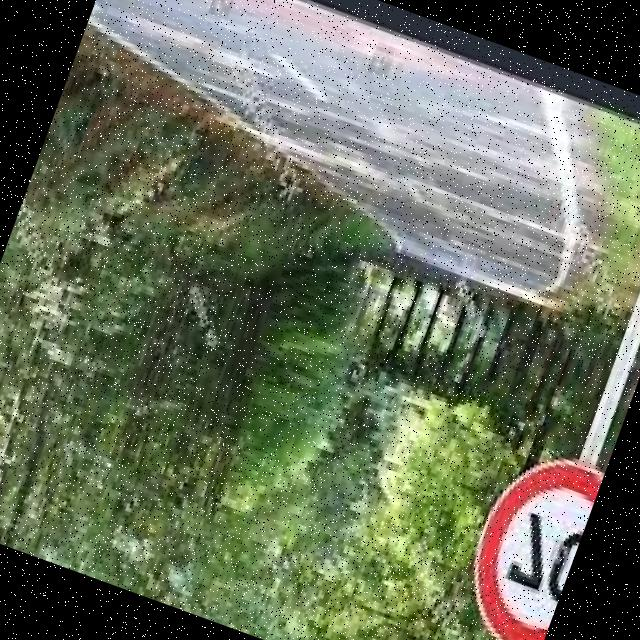speed_limit_70: (427, 435, 604, 640)
